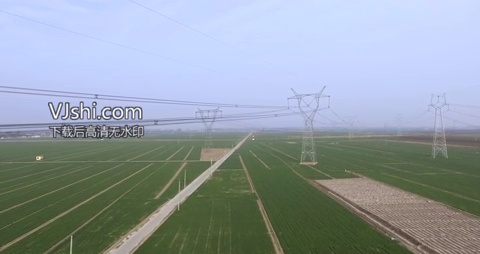tower_body: (283, 81, 339, 170), (421, 86, 460, 160)
tower_foot: (299, 141, 320, 166), (428, 137, 451, 158)
tower_head: (286, 85, 334, 122), (425, 90, 453, 111)
